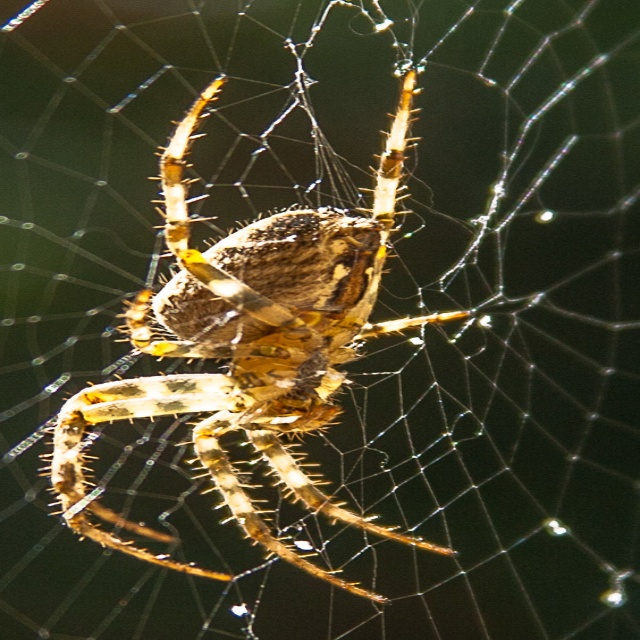Spider: (37, 69, 470, 604)
